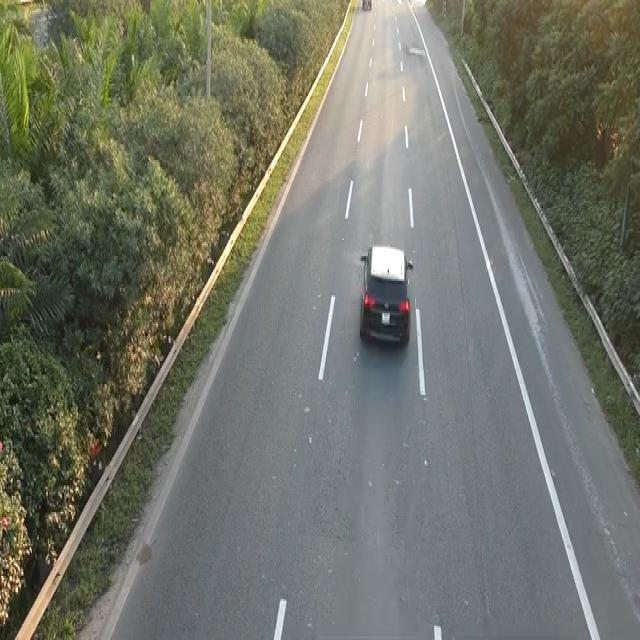car: (357, 240, 414, 348)
